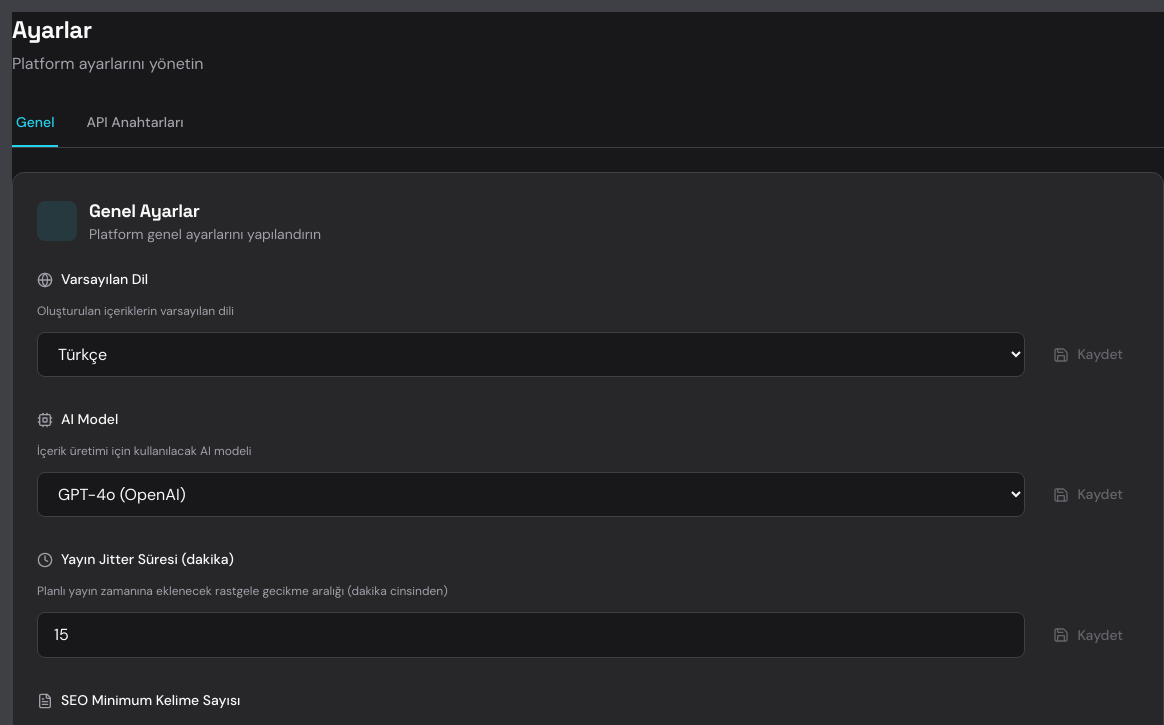
Test: Settings › shows saved indicator after successful save
Change language and save
Select "English" in the dropdown labelled "Varsayılan Dil" at (531, 354), box [37, 332, 1026, 377]
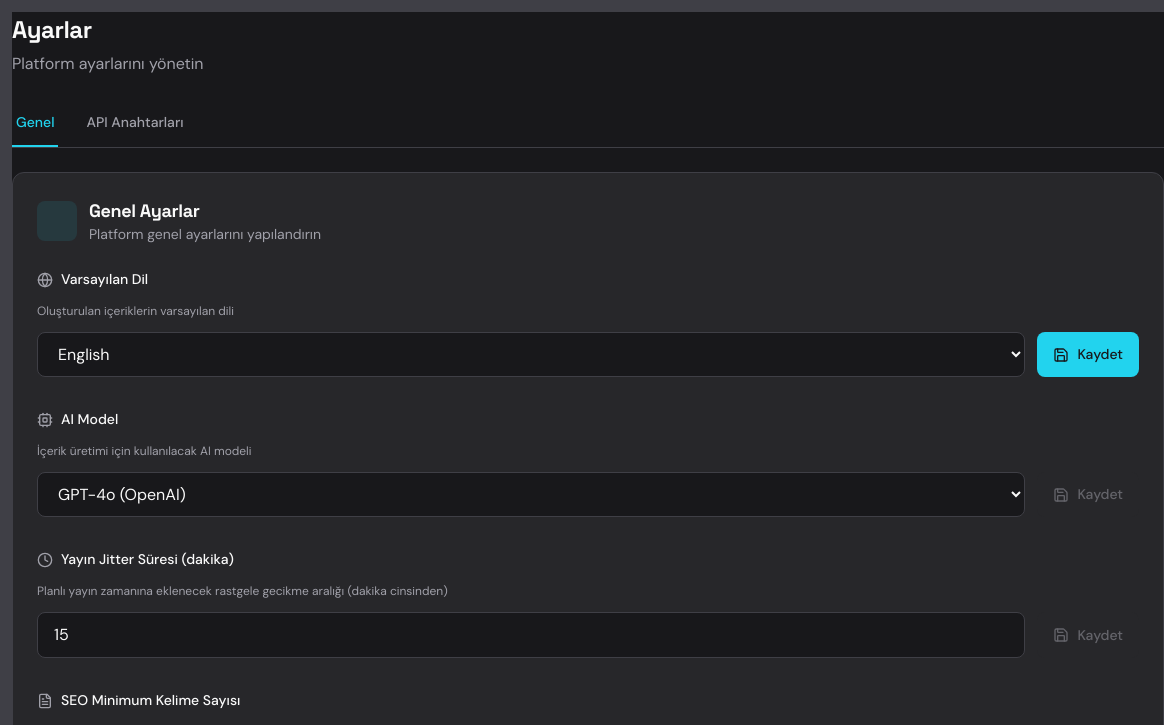
Click the 1st button "Kaydet".
click(1088, 354)  # box [1038, 332, 1139, 377]
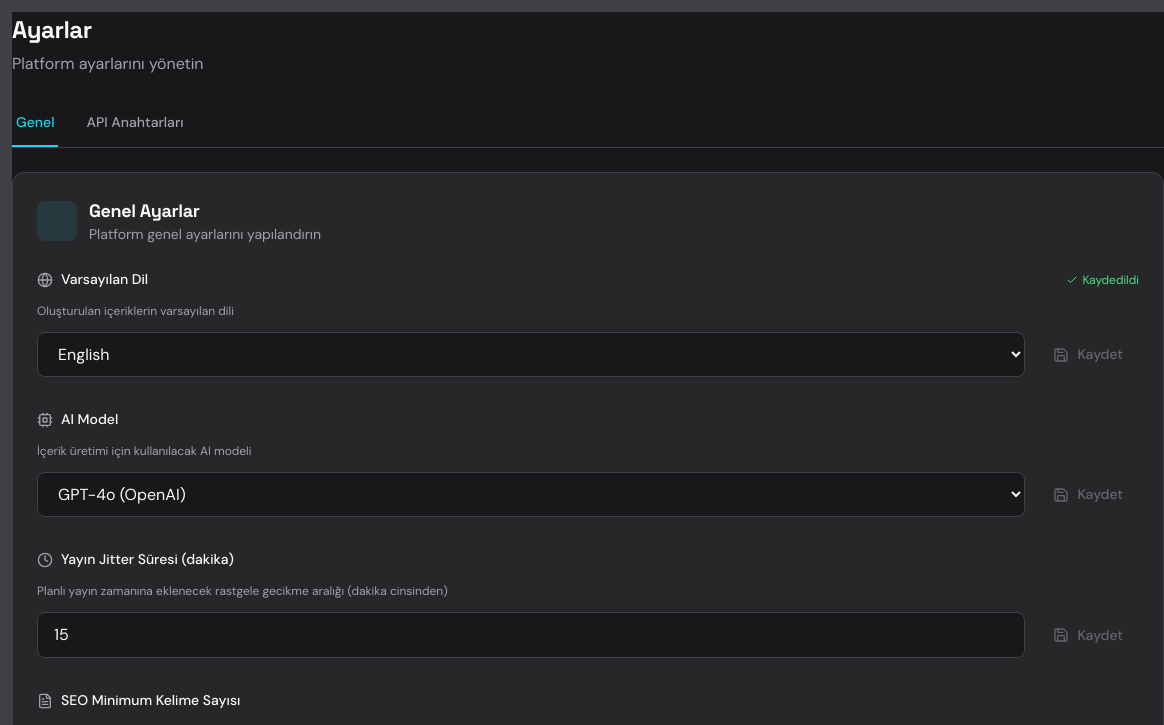
Result: the text "Kaydedildi" is shown at [1066, 270, 1139, 288]
